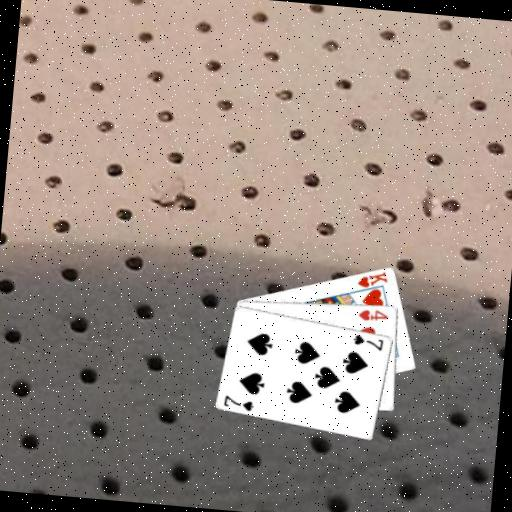4H: (355, 305, 390, 324)
7S: (351, 331, 386, 352), (221, 392, 256, 413)
KH: (354, 266, 390, 290)
